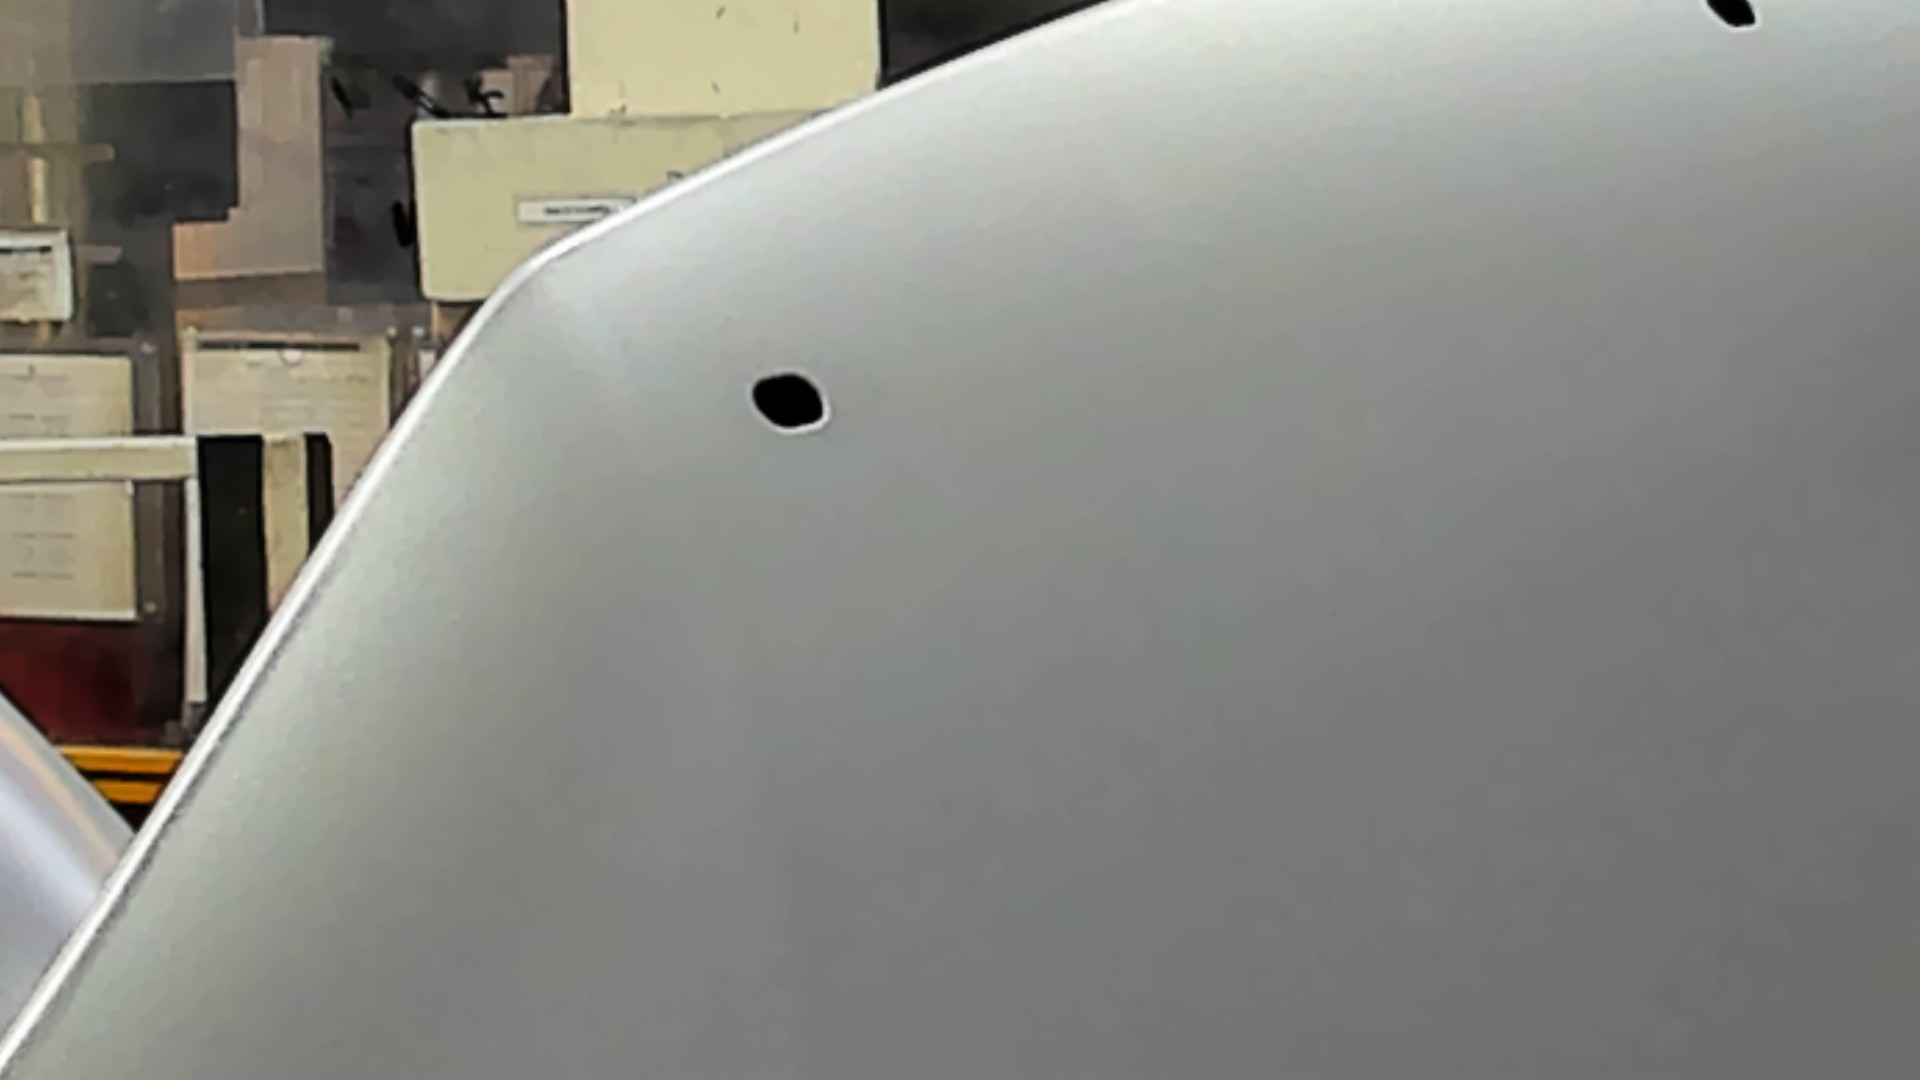amorfo: (748, 368, 836, 433), (1701, 1, 1764, 40)
